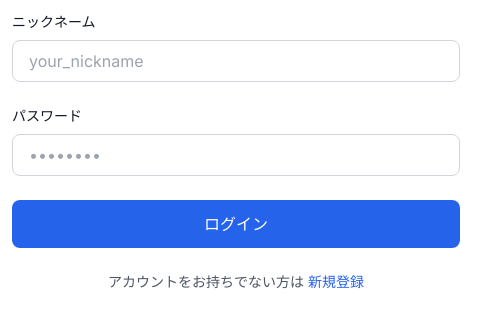
LoginForm › Validation › should show validation error for invalid nickname characters
The width and height of the screenshot is (481, 330).
In the field labelled "ニックネーム": {"x": 236, "y": 61} [12,40,460,82], type "test@user"
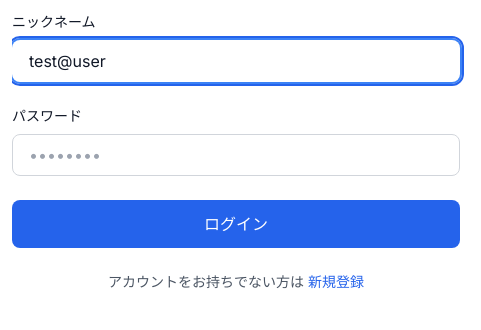
In the password field labelled "パスワード": {"x": 236, "y": 155} [12,134,460,176], type "password123"
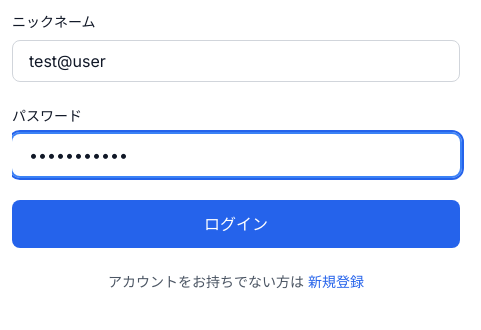
Submit the form named "ログインフォーム"
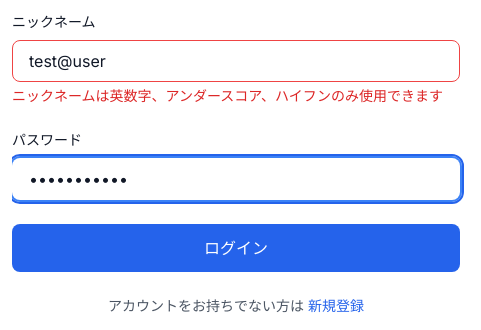
Now the text "ニックネームは英数字、アンダースコア、ハイフンのみ使用できます" is shown, box [12,86,460,106]
